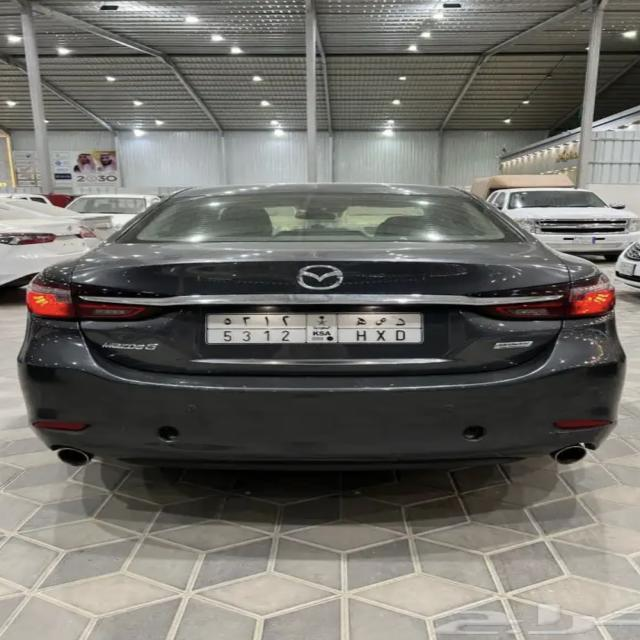license_plate: (202, 308, 428, 346)
